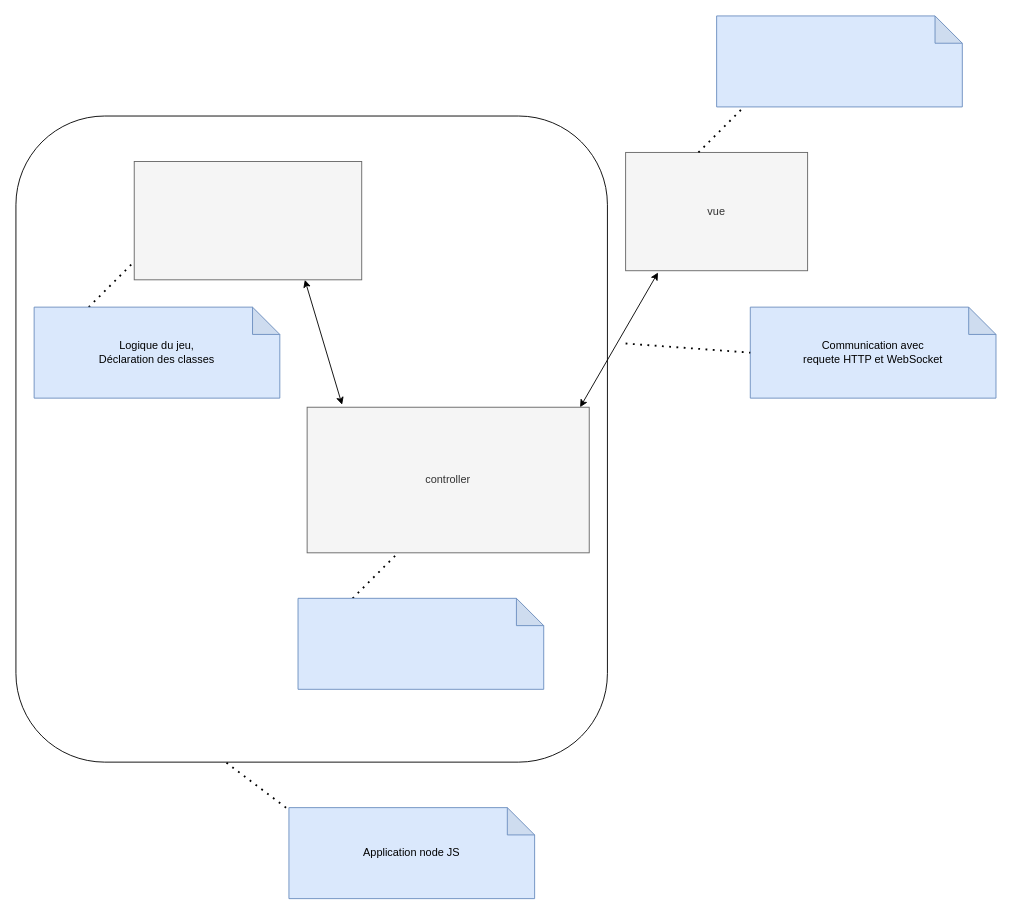
Image size: 1012x915. Some labels were removed from this diagram. Here are the shapes that lost their labels. From the top down, the box of each, then its label:
(716, 15, 962, 107): Application ReactNative
(133, 161, 362, 280): Model
(297, 597, 544, 689): Traitement requette HTTP Et initialisation webSocket
